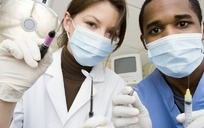correctlyWear: (139, 11, 204, 77), (63, 9, 122, 67)
